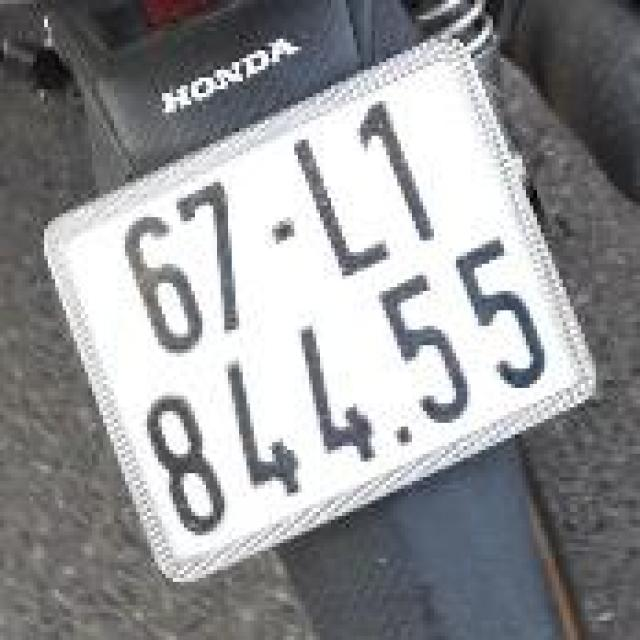1: (335, 79, 464, 260)
4: (276, 305, 391, 482), (206, 338, 317, 517)
5: (437, 216, 573, 408), (358, 262, 485, 440)
6: (107, 198, 216, 369)
7: (169, 168, 268, 345)
8: (130, 375, 246, 549)
L: (276, 111, 408, 294)
